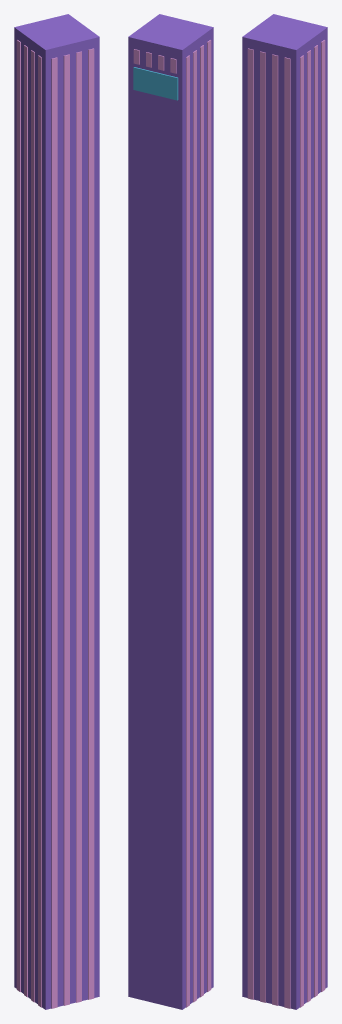
Rendered from Build_3.fbx.
3 views of the same model, side by side, from view 1: azimuth 30°, elevation 25°; view 2: azimuth 150°, elevation 25°; view 3: azimuth 330°, elevation 25° (orthographic).
Parts seen in each view (by area): view 1: Build_3; view 2: Build_3; view 3: Build_3.
Part boxes in pixels (bbox=[...]): Build_3: bbox=[14, 14, 99, 1009]; Build_3: bbox=[128, 14, 213, 1009]; Build_3: bbox=[242, 14, 327, 1009].
Bounding box in the file's own units: 68.81 × 1129 × 69.38.
